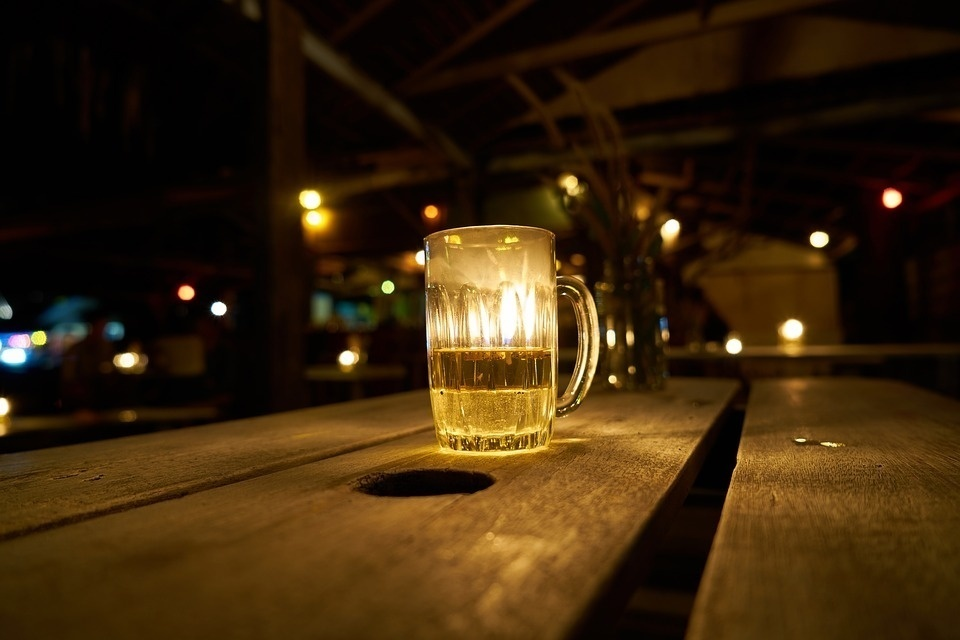whiskey: (429, 226, 558, 452)
